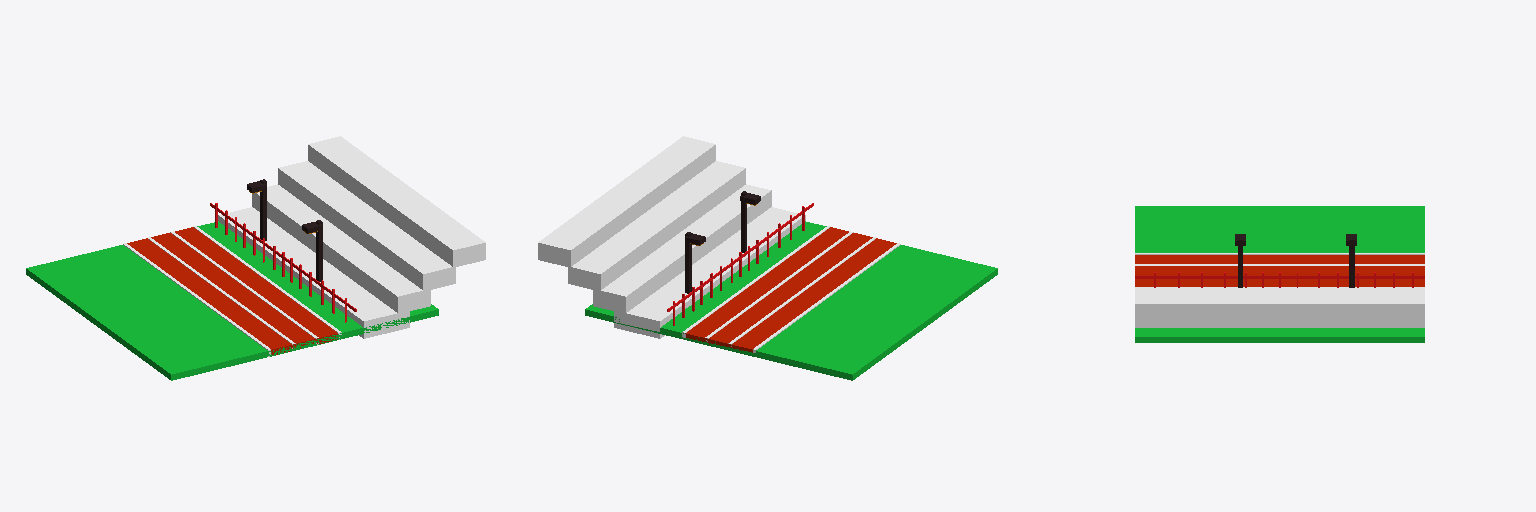
The model's file is terrain.obj.
3 views of the same model, side by side, from view 1: azimuth 30°, elevation 25°; view 2: azimuth 150°, elevation 25°; view 3: azimuth 270°, elevation 25° (orthographic).
Parts seen in each view (by area): view 1: Cube.001, Cube, Cube.024_Cube.036, Cube.023_Cube.035, Cube.022_Cube.034, Cube.006, Cube.002; view 2: Cube.001, Cube, Cube.024_Cube.036, Cube.023_Cube.035, Cube.022_Cube.034, Cube.006, Cube.002, Cube.005; view 3: Cube.001, Cube.024_Cube.036, Cube, Cube.022_Cube.034, Cube.021_Cube.023, Cube.023_Cube.035, Cube.002, Cube.003.
Boxes of the visible parts, x1,y1,x2,y2 form: Cube.001: [26, 221, 438, 380]; Cube: [127, 227, 337, 354]; Cube.024_Cube.036: [308, 136, 485, 267]; Cube.023_Cube.035: [278, 161, 455, 290]; Cube.022_Cube.034: [252, 184, 430, 312]; Cube.006: [218, 207, 409, 338]; Cube.002: [123, 243, 270, 356]; Cube.001: [585, 221, 997, 380]; Cube: [685, 227, 896, 352]; Cube.024_Cube.036: [538, 136, 715, 266]; Cube.023_Cube.035: [568, 161, 745, 290]; Cube.022_Cube.034: [593, 184, 771, 312]; Cube.006: [614, 207, 805, 338]; Cube.002: [753, 243, 900, 352]; Cube.005: [682, 226, 830, 339]; Cube.001: [1135, 206, 1424, 342]; Cube.024_Cube.036: [1135, 288, 1424, 321]; Cube: [1135, 255, 1424, 286]; Cube.022_Cube.034: [1135, 324, 1424, 327]; Cube.021_Cube.023: [1135, 276, 1424, 278]; Cube.023_Cube.035: [1135, 322, 1424, 323]; Cube.002: [1135, 253, 1424, 254]; Cube.003: [1135, 264, 1424, 265].
Bounding box in the file's own units: 104 × 24.39 × 83.59.